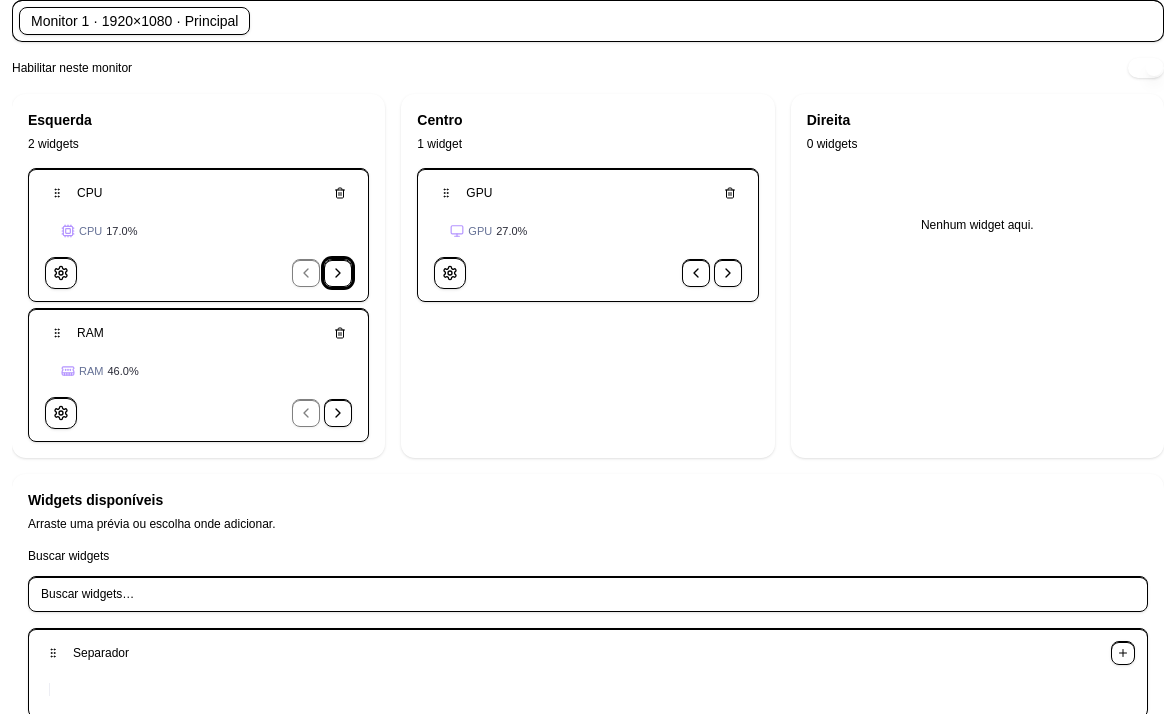
moves through adjacent columns with arrows, appends and preserves settings and keyboard focus
Expected: the button named "Mover CPU para a esquerda" is disabled, [292,259,320,287]
Click the button named "Mover CPU para Centro".
click(338, 273)  # box [324,259,352,287]
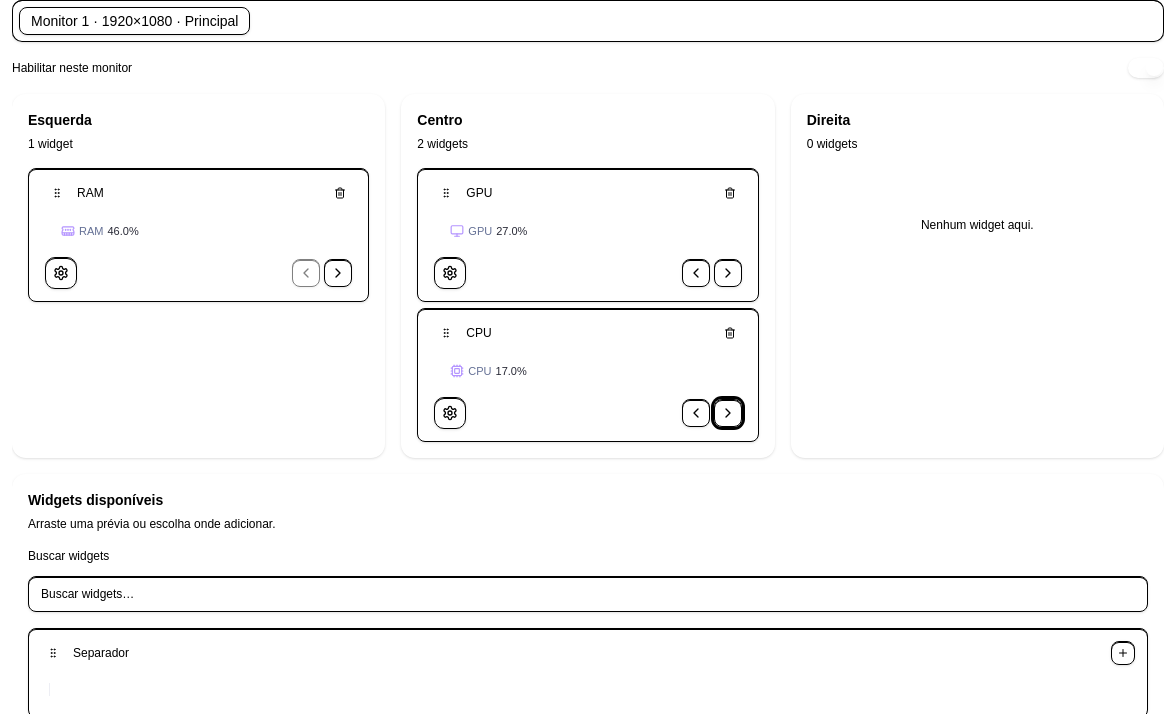
Click the button named "Mover CPU para Direita".
click(728, 413)  # box [714,399,742,427]
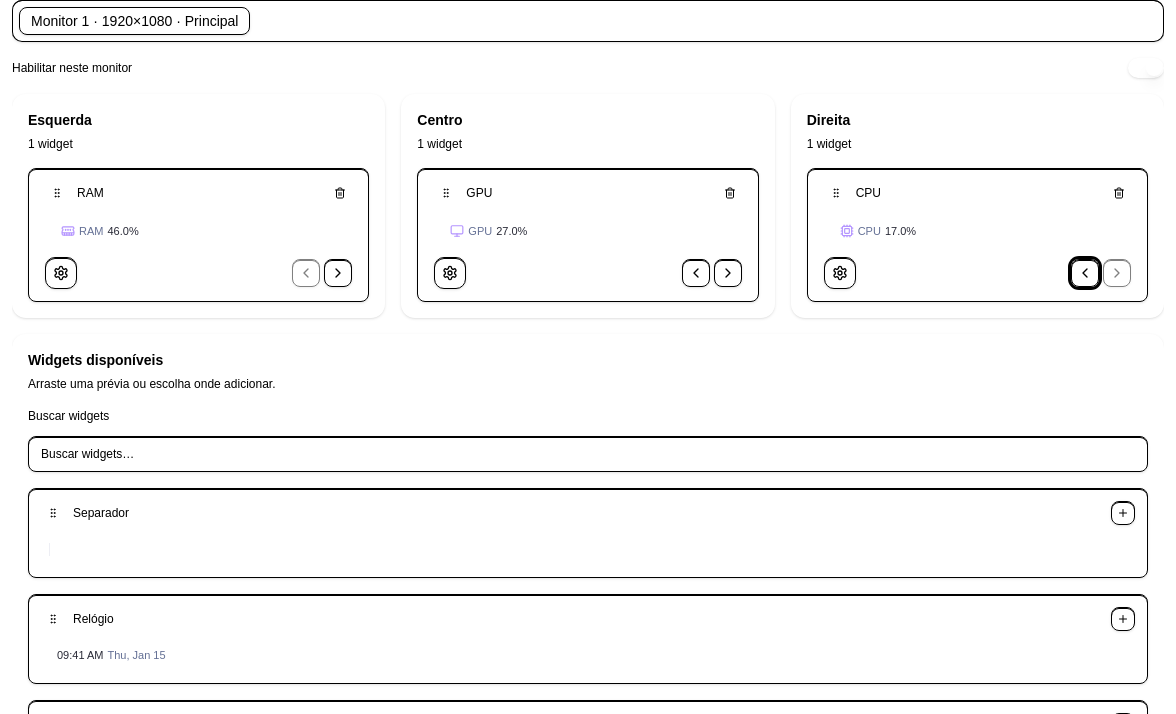
Now the button named "Mover CPU para a direita" is disabled, box [1103,259,1131,287]
Click the button named "Mover CPU para Centro".
click(1085, 273)  # box [1071,259,1099,287]
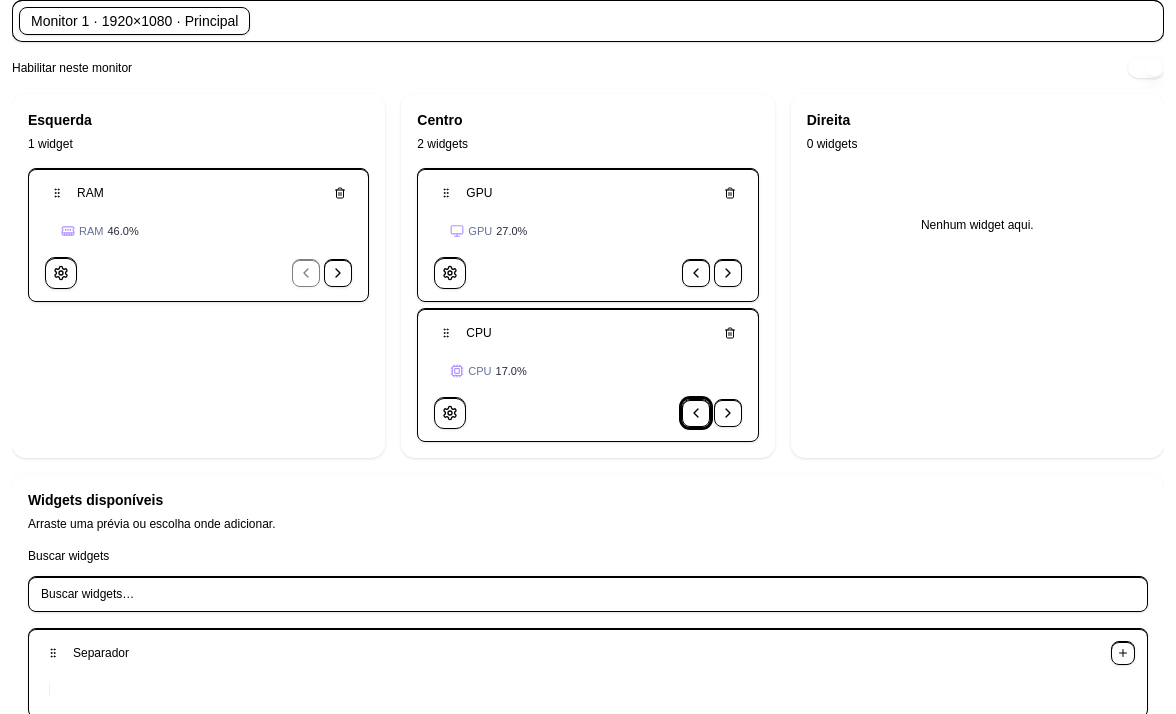
Click the button named "Mover CPU para Esquerda".
click(696, 413)  # box [682,399,710,427]
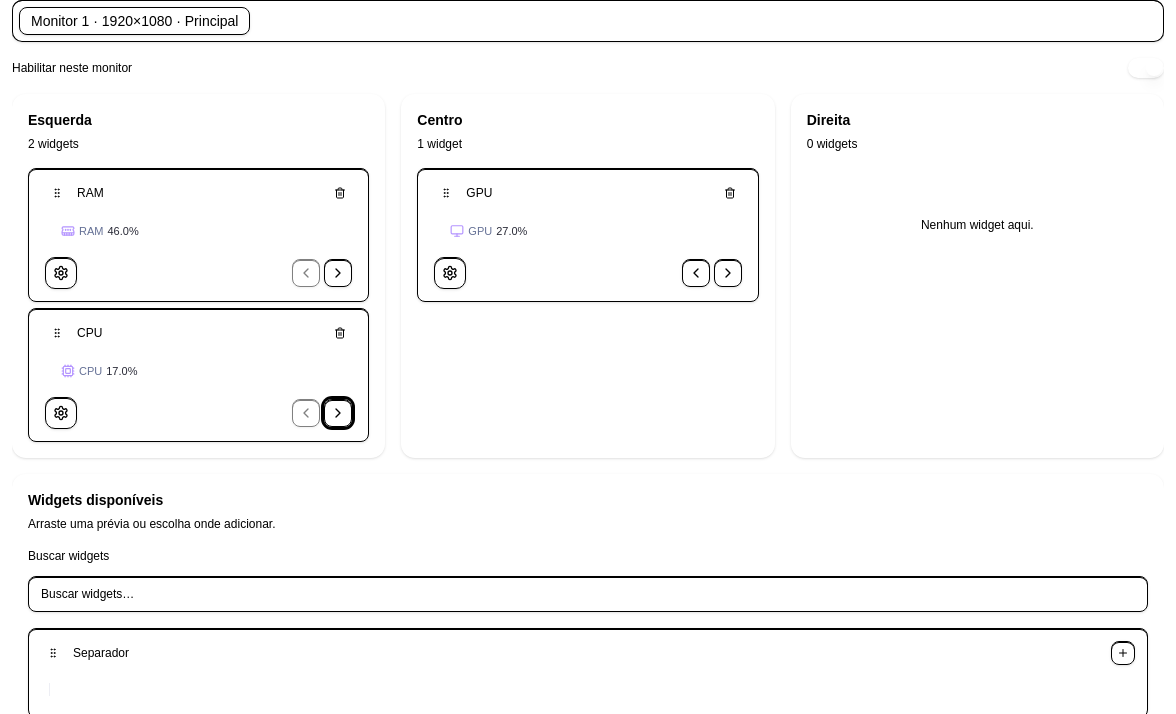
Now the button named "Mover CPU para a esquerda" is disabled, box [292,399,320,427]
